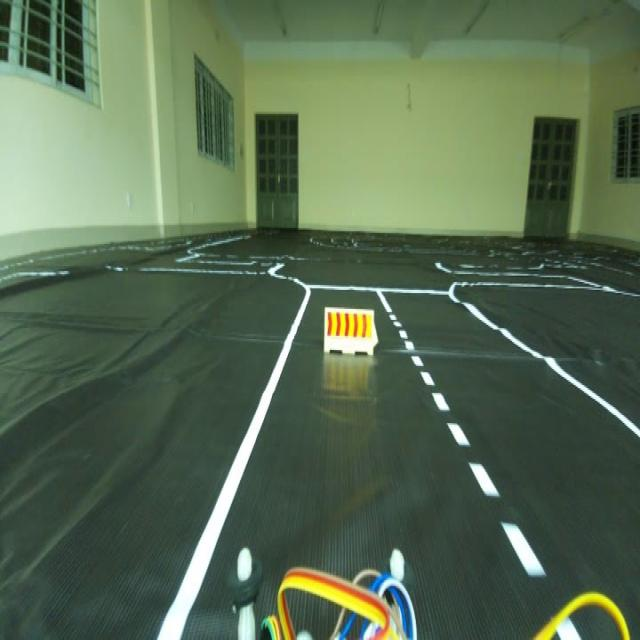roadblock: (314, 295, 383, 361)
